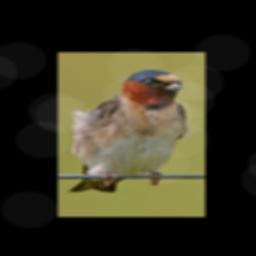Swallow: (68, 69, 191, 194)
